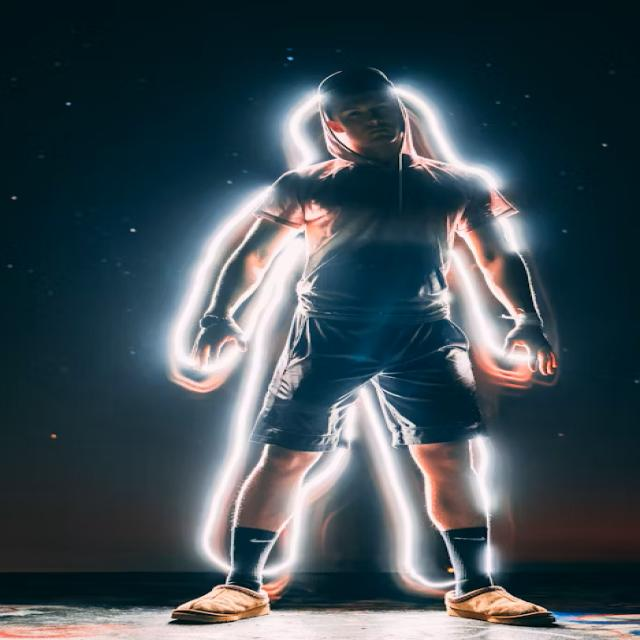Edited images: (153, 60, 576, 634)
